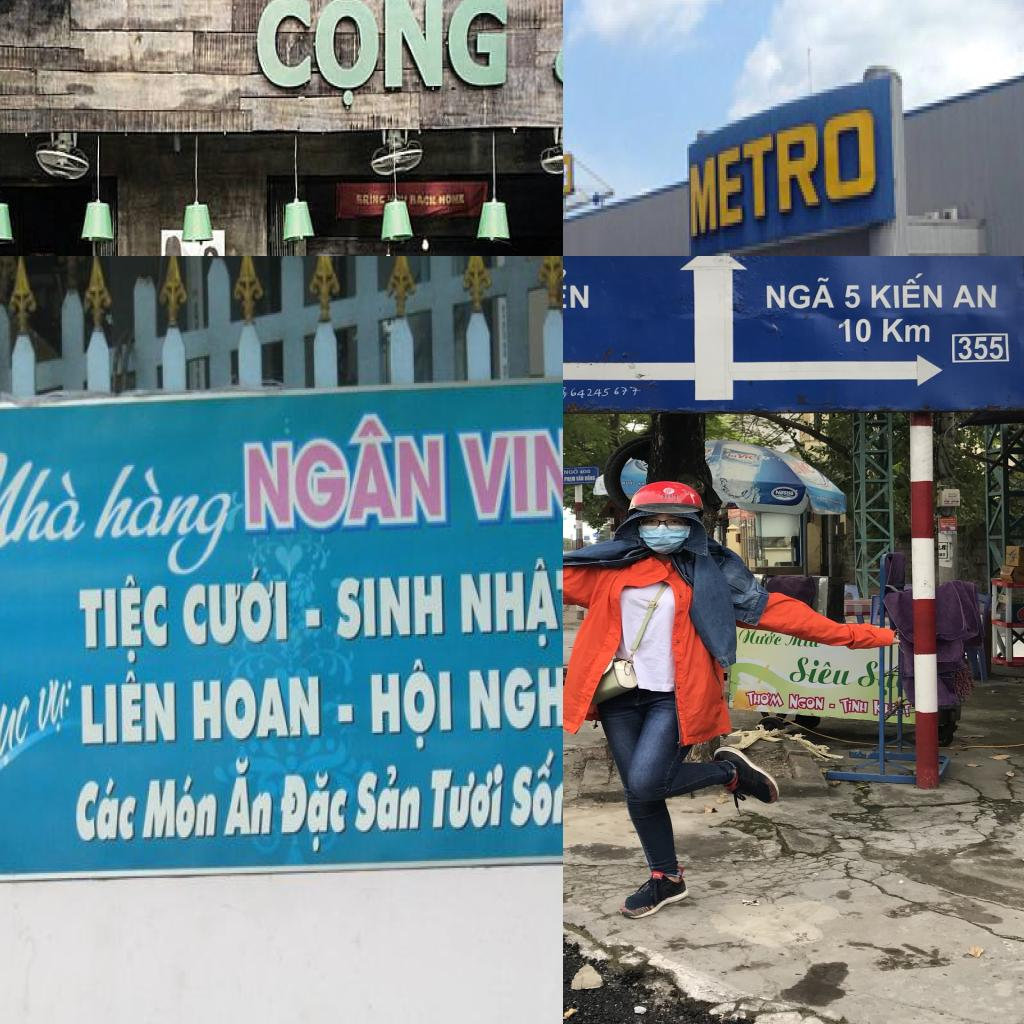text: (256, 0, 508, 108), (691, 100, 877, 243), (241, 414, 451, 535), (82, 460, 238, 574), (456, 424, 563, 523), (182, 567, 290, 653), (458, 559, 563, 647), (0, 451, 86, 558), (191, 676, 321, 742), (77, 574, 167, 662), (467, 665, 563, 745), (370, 658, 452, 750), (78, 670, 176, 745), (336, 574, 445, 641), (278, 769, 349, 851), (140, 769, 218, 839), (428, 765, 506, 834), (352, 760, 423, 834), (0, 661, 33, 818), (74, 769, 136, 844), (220, 759, 274, 837), (836, 316, 938, 348), (868, 272, 945, 310), (36, 670, 76, 743), (760, 274, 836, 310), (785, 654, 857, 690), (563, 381, 645, 404), (951, 280, 1004, 310), (952, 334, 1009, 361), (563, 268, 592, 311), (737, 626, 787, 648), (740, 688, 787, 709), (786, 691, 826, 713), (785, 455, 819, 477), (842, 281, 865, 310), (837, 696, 869, 715), (563, 150, 574, 205), (724, 448, 759, 462), (409, 192, 437, 208), (438, 194, 460, 207), (362, 192, 374, 206), (621, 478, 637, 486), (660, 494, 680, 500), (775, 490, 795, 496), (563, 468, 578, 475), (828, 701, 838, 710), (585, 474, 596, 482), (564, 476, 576, 482), (576, 474, 584, 482), (580, 469, 592, 474), (938, 544, 948, 550), (637, 481, 647, 486), (809, 494, 817, 500)
